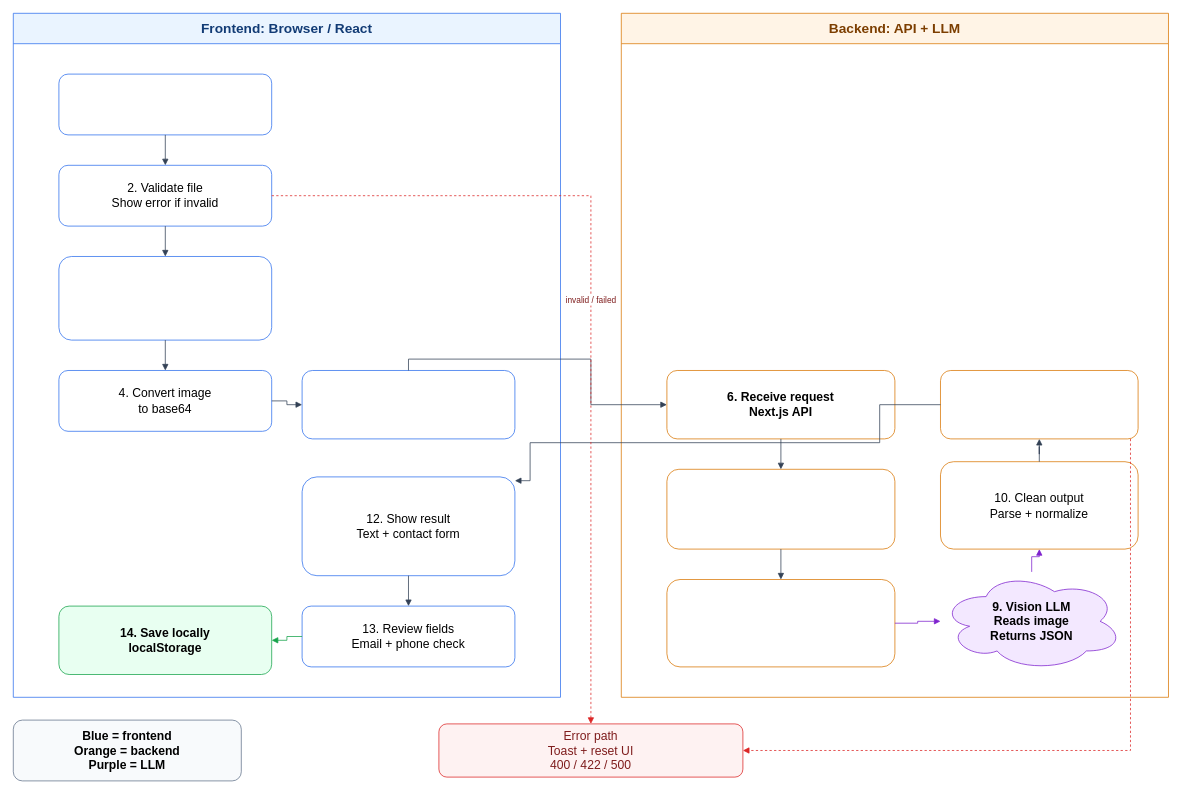
Image size: 1182x794. Some labels were removed from this diagram. The shapes that lost their labels are listed below. From the top down, each one's centre as x and y in pixels, then its label:
At pixel 165 104: "1. Upload image JPG / PNG / WEBP".
At pixel 165 298: "3. Prepare UI Preview + progress".
At pixel 408 404: "5. Send to API /api/recognize".
At pixel 1039 404: "11. Return result Contact + raw text".
At pixel 780 509: "7. Validate request Key + image type".
At pixel 780 623: "8. Build prompt Image + JSON schema".
